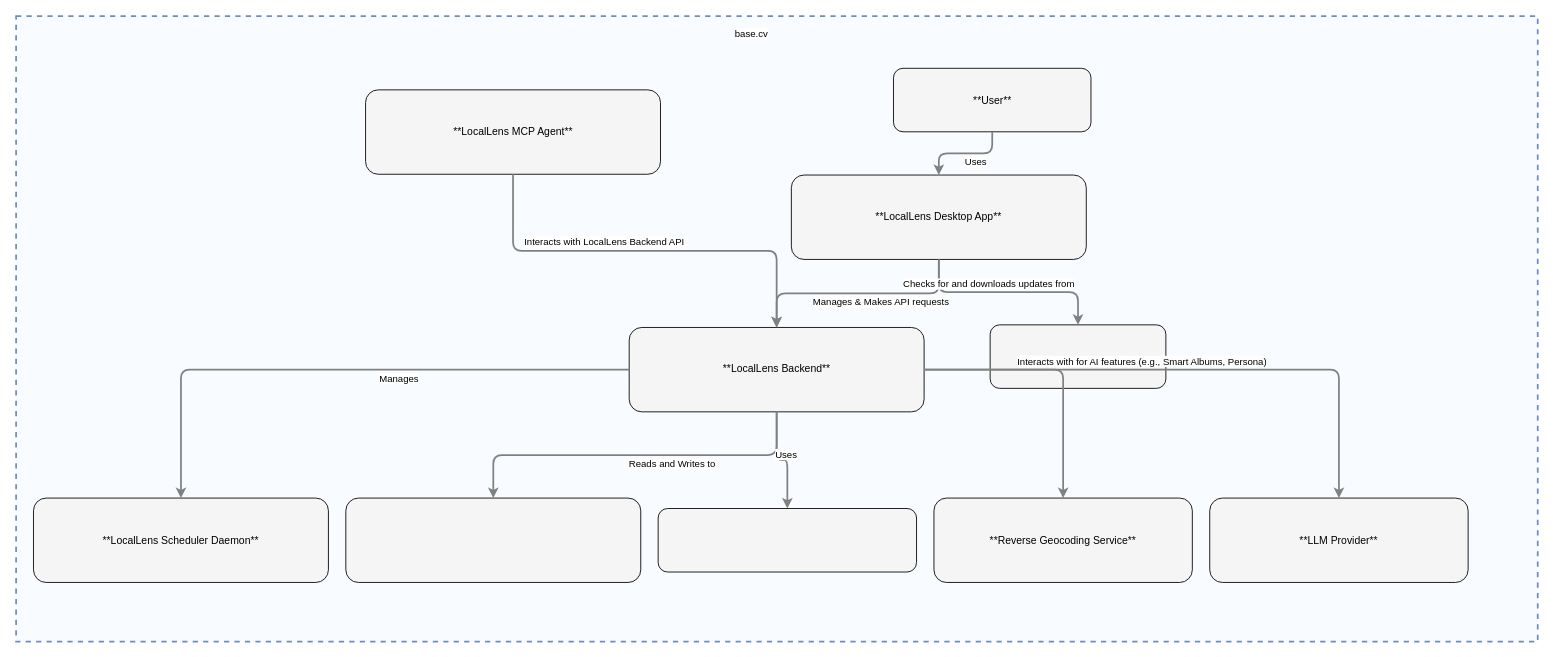
Some shapes in this 1553 by 657 pixel diagram are drawn without their labels. Here are the shapes that lost their labels. From the top down, the centre of each, then its label:
point 1077,356: **Update Server**
point 493,539: **LocalLens Database**
point 787,540: **Face Recognition Library**
